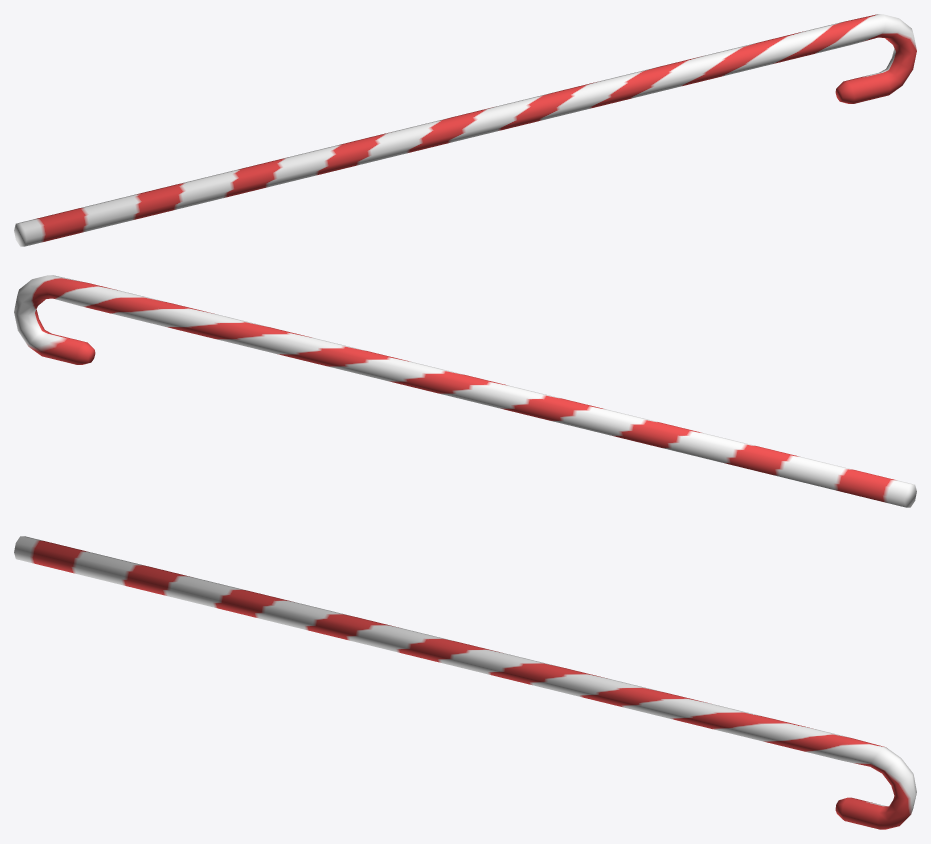
Rendered from sucreDorge.glb.
3 views of the same model, one above another, from view 1: azimuth 30°, elevation 25°; view 2: azimuth 150°, elevation 25°; view 3: azimuth 330°, elevation 25° (orthographic).
Visible parts, largest first — view 1: Cylinder.034; view 2: Cylinder.034; view 3: Cylinder.034.
Boxes of the visible parts, x1=… form: Cylinder.034: x1=14, y1=14, x2=916, y2=246; Cylinder.034: x1=14, y1=275, x2=916, y2=507; Cylinder.034: x1=14, y1=536, x2=916, y2=829.
Bounding box in the file's own units: 12.47 × 1.1 × 0.3097.
Materials: 1 (1 with a texture image).
